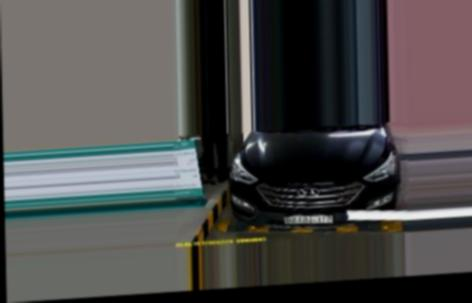License_Plate: (281, 212, 333, 229)
